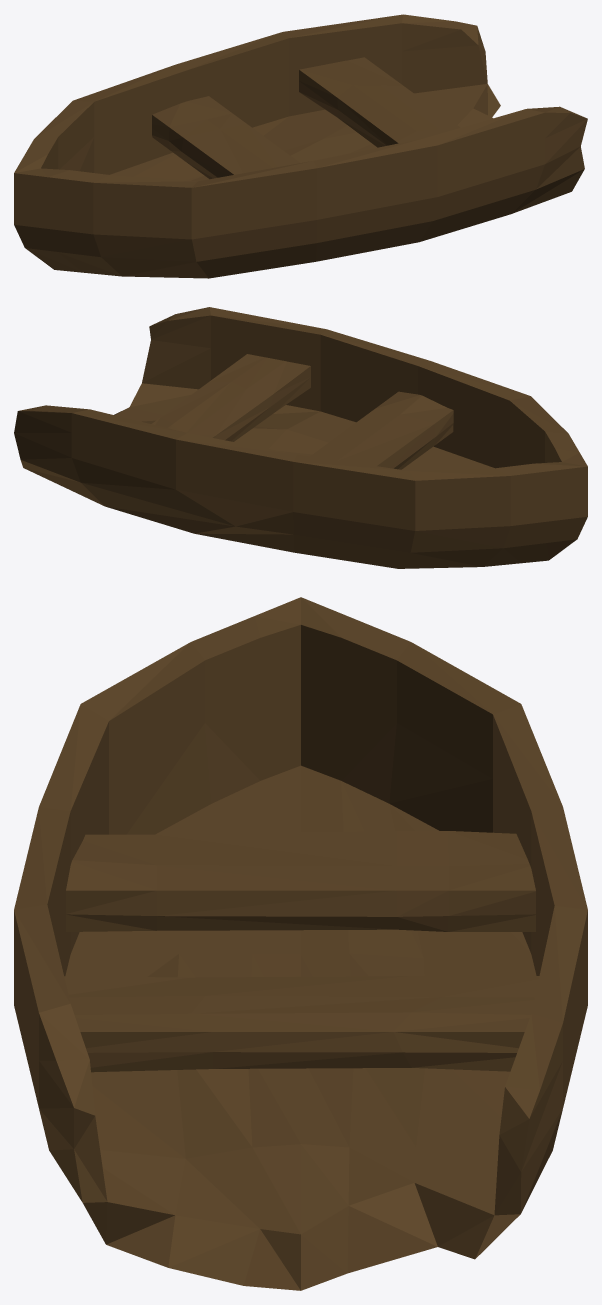
File: Boot kaputt 1.fbx
3 renders of one model, top to bottom at view 1: azimuth 30°, elevation 25°; view 2: azimuth 150°, elevation 25°; view 3: azimuth 270°, elevation 25°, orthographic. The views are drawn at different scales.
Parts seen in each view (by area): view 1: Boot, Sitz_II, Sitz_I; view 2: Boot, Sitz_II, Sitz_I; view 3: Boot, Sitz_I, Sitz_II.
Part boxes in pixels (x1,y1,x2,y2): Boot: (14,14,587,278); Sitz_II: (299,57,460,147); Sitz_I: (152,96,299,179); Boot: (14,307,587,568); Sitz_II: (151,354,310,441); Sitz_I: (310,391,453,469); Boot: (14,597,587,1290); Sitz_I: (66,831,535,931); Sitz_II: (64,976,539,1072).
Bounding box in the file's own units: 752 × 172 × 378.
